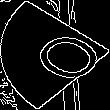O_SE: (8, 22, 102, 88)
